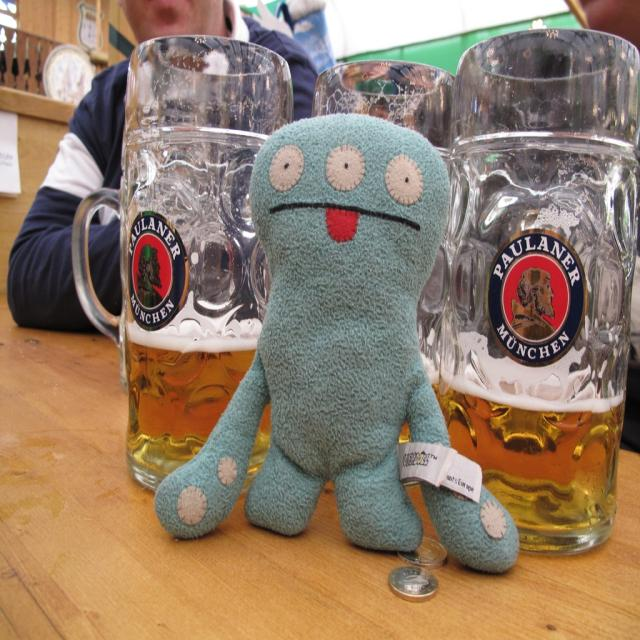paulaner: (487, 229, 587, 368), (128, 211, 189, 332)
